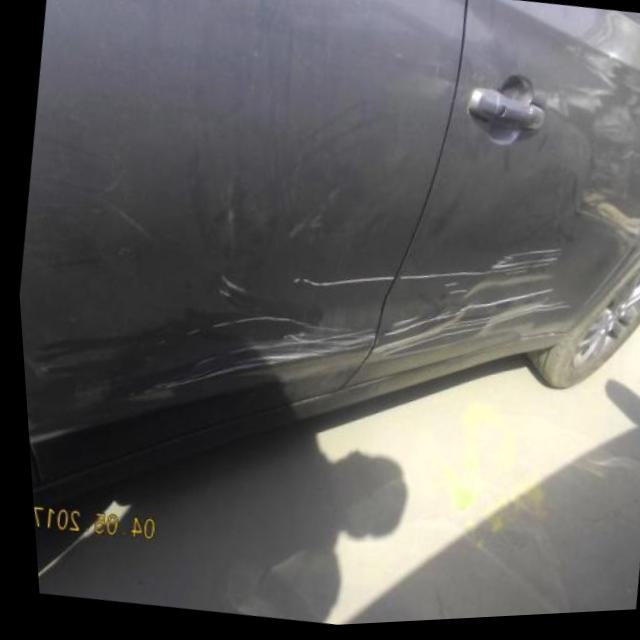Car-Damage: (105, 226, 578, 468), (283, 213, 569, 336)
